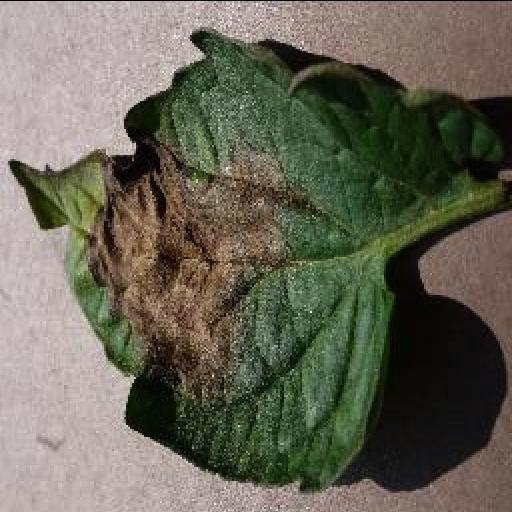disease_tomato: (8, 27, 512, 493)
